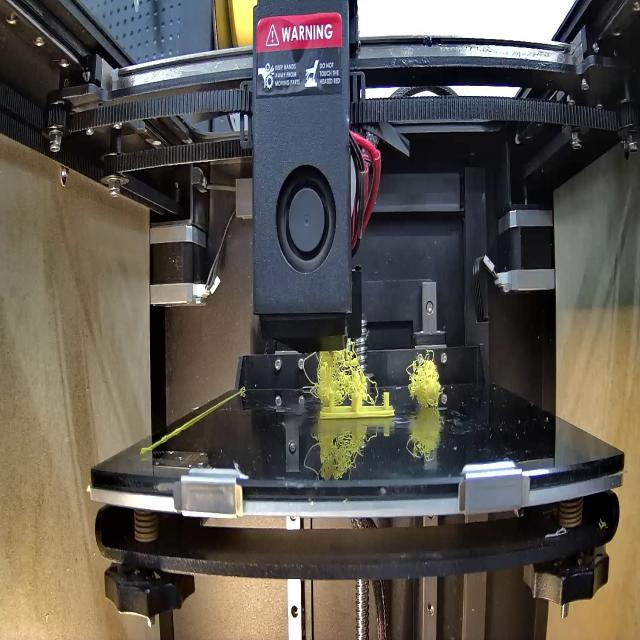spaghetti: (303, 338, 377, 402), (403, 347, 447, 412)
